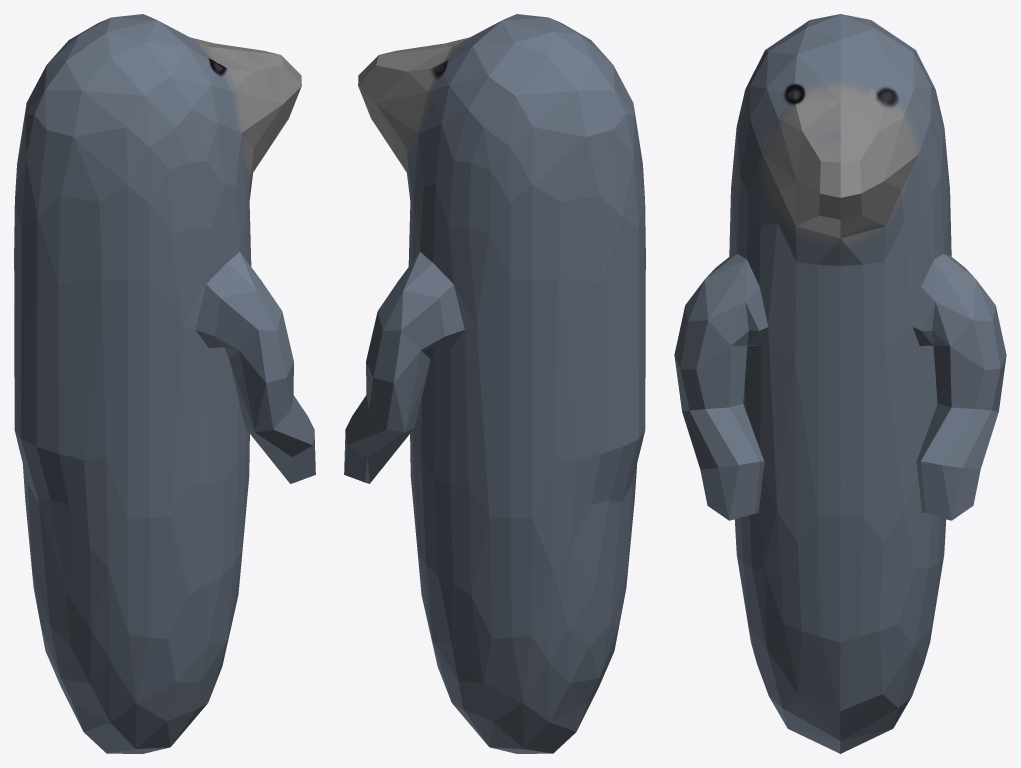
File: Mole_Mod.fbx
The picture shows the model from 3 angles, left to right: view 1: azimuth 30°, elevation 25°; view 2: azimuth 150°, elevation 25°; view 3: azimuth 270°, elevation 25°; orthographic projection.
Visible parts, largest first — view 1: Mole; view 2: Mole; view 3: Mole.
Part boxes in pixels (x1,y1,x2,y2): Mole: (14, 14, 315, 753); Mole: (344, 14, 645, 753); Mole: (674, 14, 1006, 753).
Size of the model in its own units: 266 by 663 by 277.
1 material, 1 textured.
